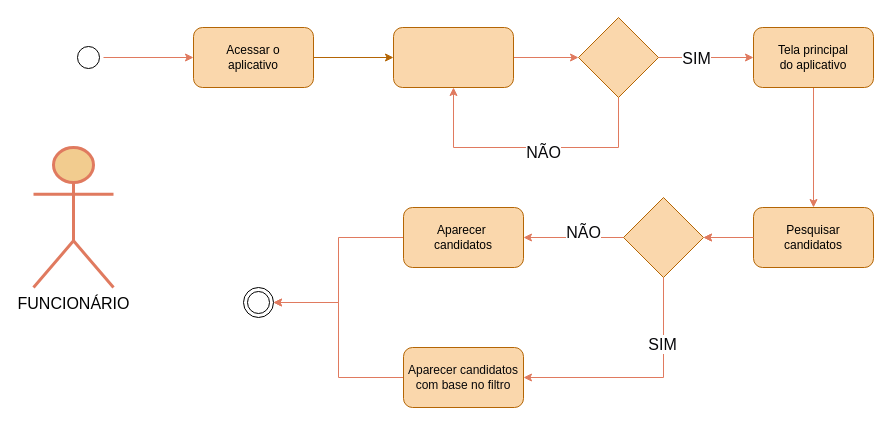
This 891x425 diagram has some shape labels left out. The centre of each missing label's shape, as x and y in pixels:
"Deu certo?" belongs at point (618, 57).
"Fazer login" belongs at point (453, 57).
"Utilizar filtro?" belongs at point (663, 237).
